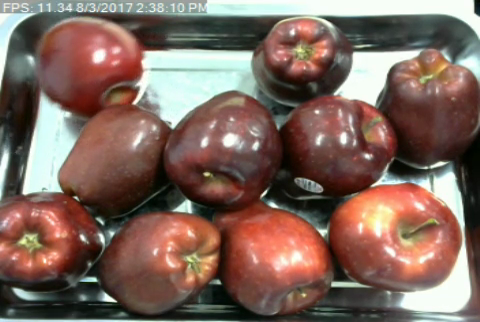Apple: (208, 195, 339, 320), (159, 90, 286, 213), (326, 181, 463, 293), (52, 101, 173, 219), (94, 209, 226, 316), (275, 92, 399, 203), (374, 45, 480, 174), (34, 12, 151, 118), (0, 187, 106, 295), (249, 12, 356, 109)
